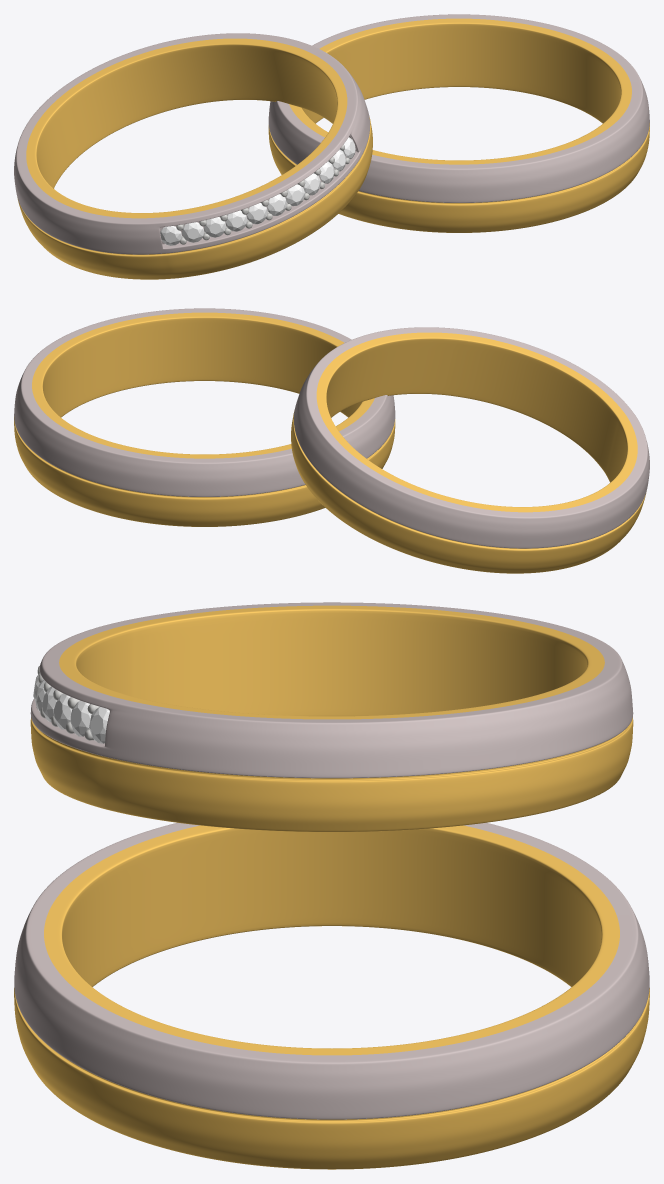
The model's file is Weeding Ring.glb.
3 views of the same model, one above another, from view 1: azimuth 30°, elevation 25°; view 2: azimuth 150°, elevation 25°; view 3: azimuth 270°, elevation 25° (orthographic). The views are drawn at different scales.
Parts seen in each view (by area): view 1: argolla 1.001_0, argolla 1_12; view 2: argolla 1_12, argolla 1.001_0; view 3: argolla 1.001_0, argolla 1_12.
Boxes of the visible parts, box(x1,y1,x2,y2) form: argolla 1.001_0: box(268, 14, 649, 232); argolla 1_12: box(14, 33, 372, 279); argolla 1_12: box(291, 327, 649, 573); argolla 1.001_0: box(14, 308, 395, 526); argolla 1.001_0: box(14, 822, 649, 1169); argolla 1_12: box(30, 602, 633, 831).
Bounding box in the file's own units: 4.37 × 0.9235 × 2.46.
